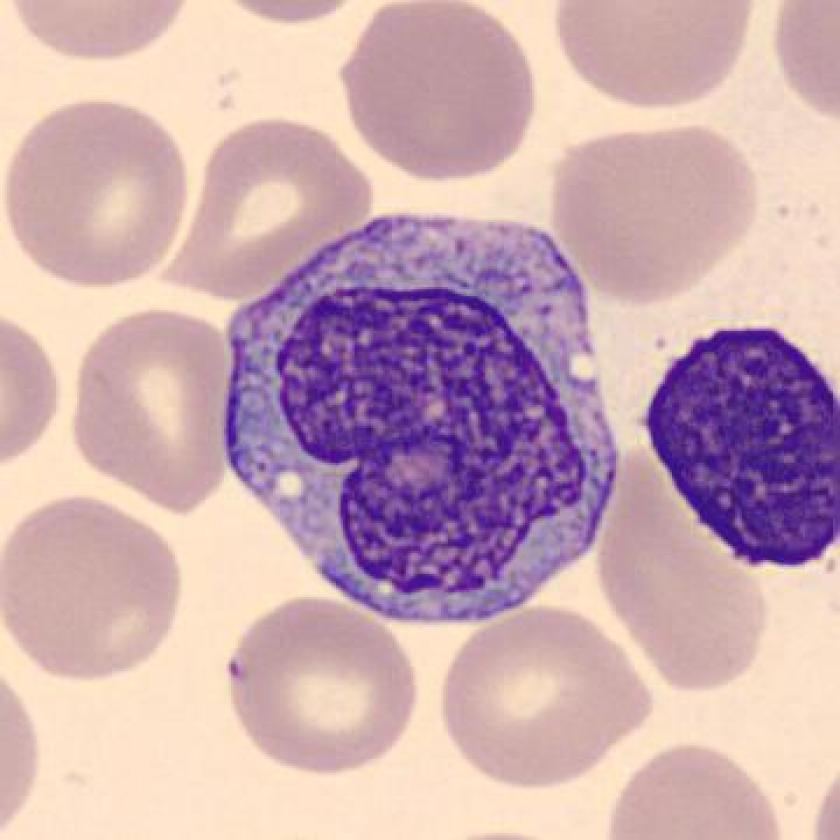monocyte: (206, 195, 631, 642)
